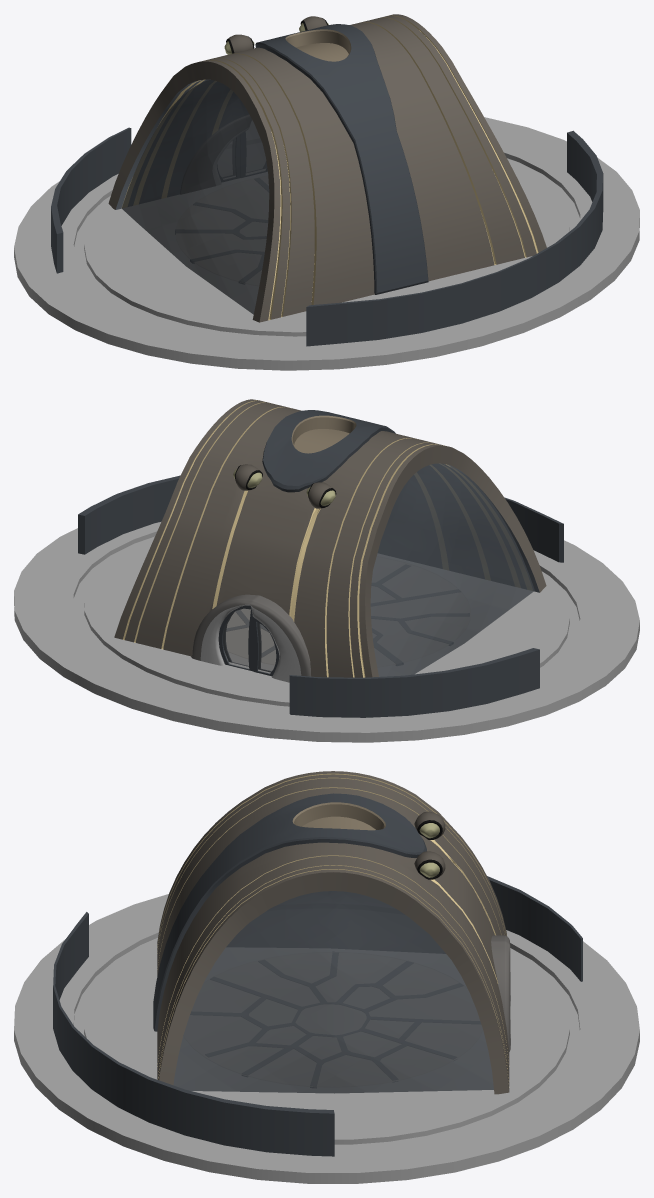
The model's file is hope.fbx.
The picture shows the model from 3 angles, top to bottom: view 1: azimuth 30°, elevation 25°; view 2: azimuth 150°, elevation 25°; view 3: azimuth 270°, elevation 25°; orthographic projection. The views are drawn at different scales.
Visible parts, largest first — view 1: outsidefloor, polySurface1, glassWindow, polySurface3; view 2: outsidefloor, polySurface1, glassWindow, polySurface3, pPlane1, pPlane2, rfloor1, pSphere3, pSphere4; view 3: outsidefloor, glassWindow1, polySurface1, glassWindow, polySurface3, pSphere3, pSphere4.
Boxes of the visible parts, x1,y1,x2,y2 form: outsidefloor: (14, 117, 639, 370); polySurface1: (108, 14, 546, 322); glassWindow: (122, 80, 269, 314); polySurface3: (180, 115, 251, 194); outsidefloor: (14, 475, 639, 742); polySurface1: (114, 399, 546, 677); glassWindow: (370, 463, 534, 676); polySurface3: (191, 594, 311, 682); pPlane1: (218, 605, 253, 671); pPlane2: (253, 617, 279, 676); rfloor1: (226, 609, 275, 664); pSphere3: (233, 464, 262, 490); pSphere4: (306, 482, 336, 508); outsidefloor: (14, 876, 639, 1183); glassWindow1: (173, 891, 493, 1093); polySurface1: (153, 771, 509, 1094); glassWindow: (227, 891, 445, 953); polySurface3: (491, 935, 510, 1051); pSphere3: (414, 851, 445, 879); pSphere4: (414, 811, 445, 839).
Bounding box in the file's own units: 927 × 316 × 822.
